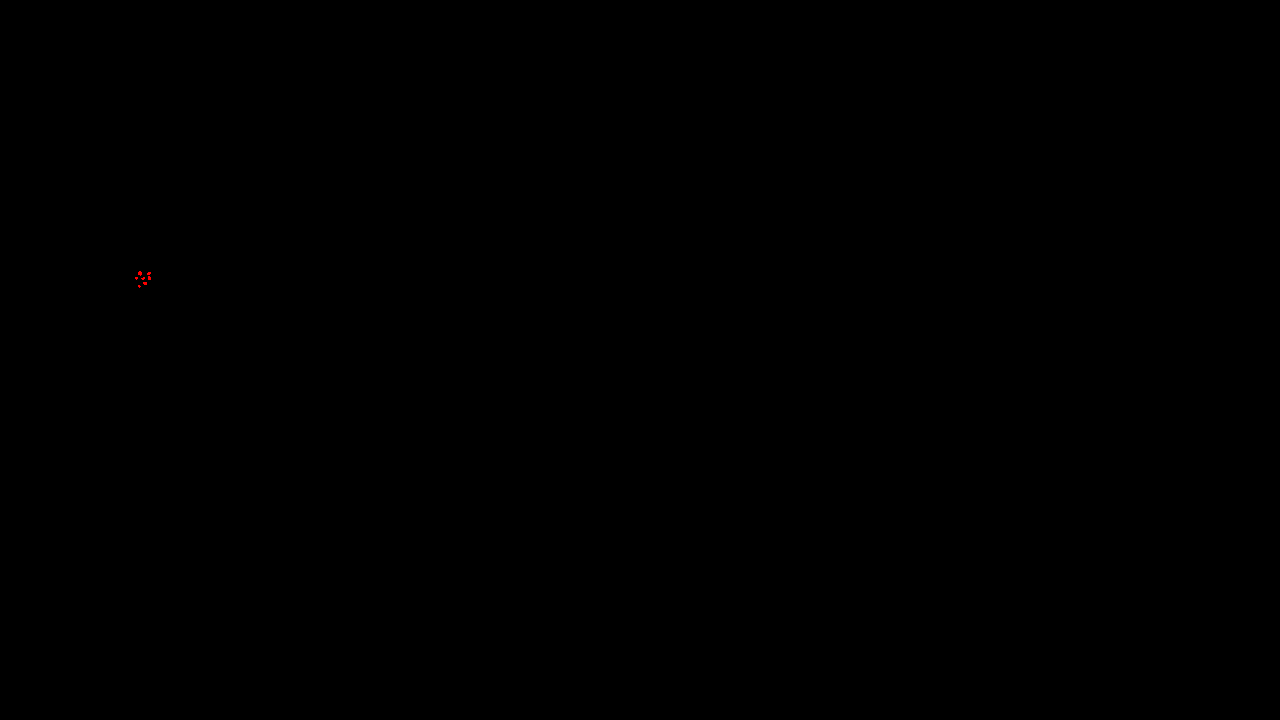Target: (138, 271, 142, 276), (147, 272, 151, 275), (148, 276, 151, 280), (141, 277, 145, 280), (143, 282, 147, 285), (135, 277, 138, 280), (138, 285, 141, 288)
